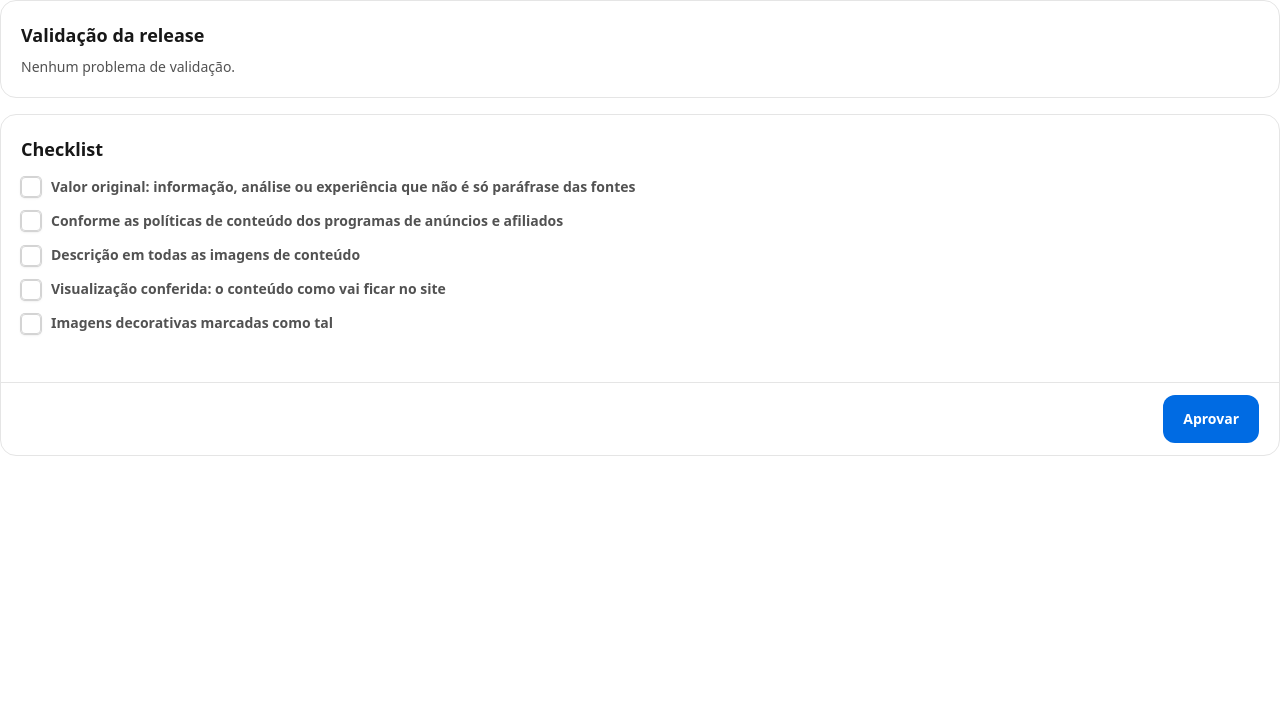
painel de revisão › recusa do domínio aparece no resumo do formulário
The width and height of the screenshot is (1280, 720).
Click the checkbox named "Valor original: informação, análise ou experiência que não é só paráfrase das fontes" at (31, 187), box [21, 177, 41, 197]
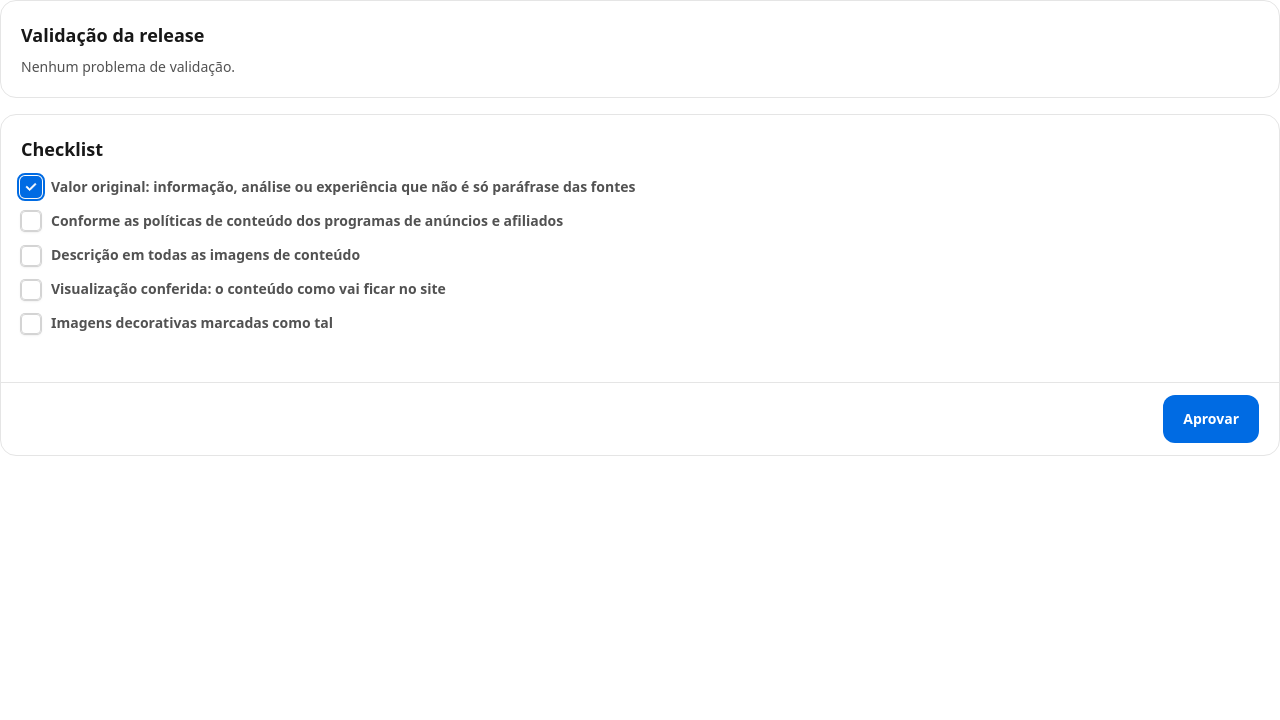
Click the checkbox labelled "Conforme as políticas de conteúdo dos programas de anúncios e afiliados" at (31, 221), box [21, 211, 41, 231]
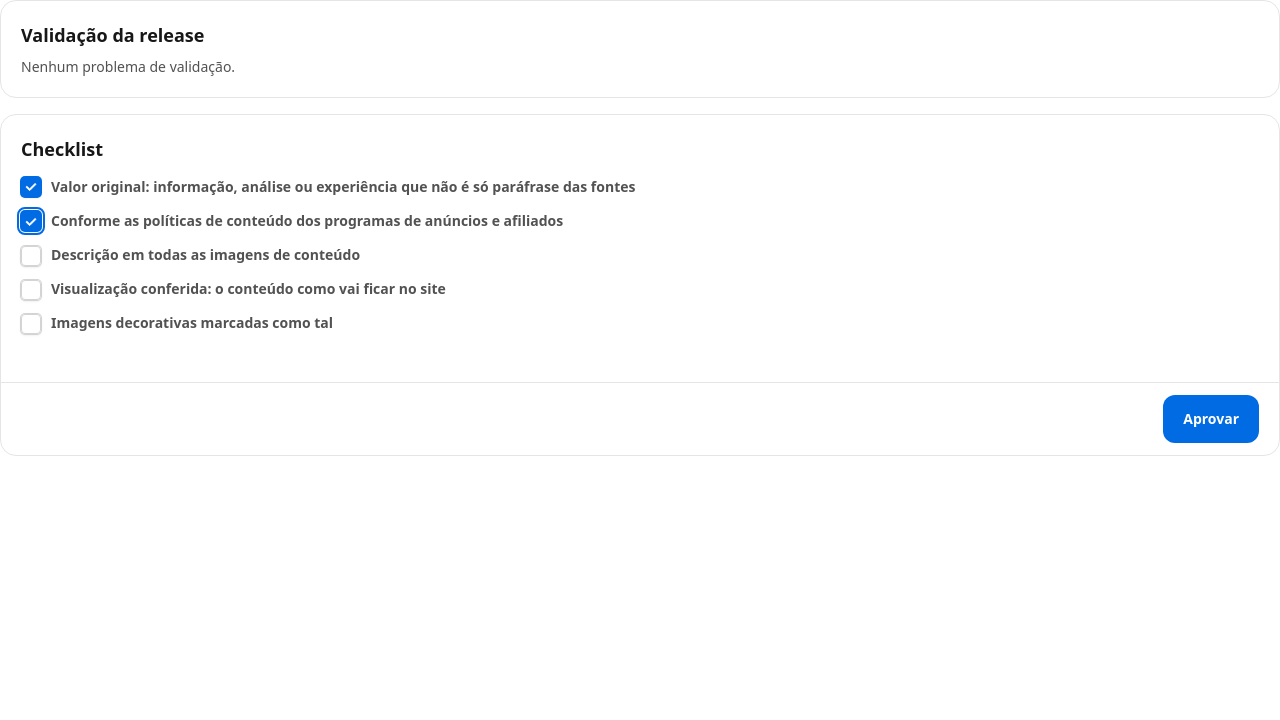
Click the checkbox labelled "Descrição em todas as imagens de conteúdo" at (31, 256), box [21, 246, 41, 266]
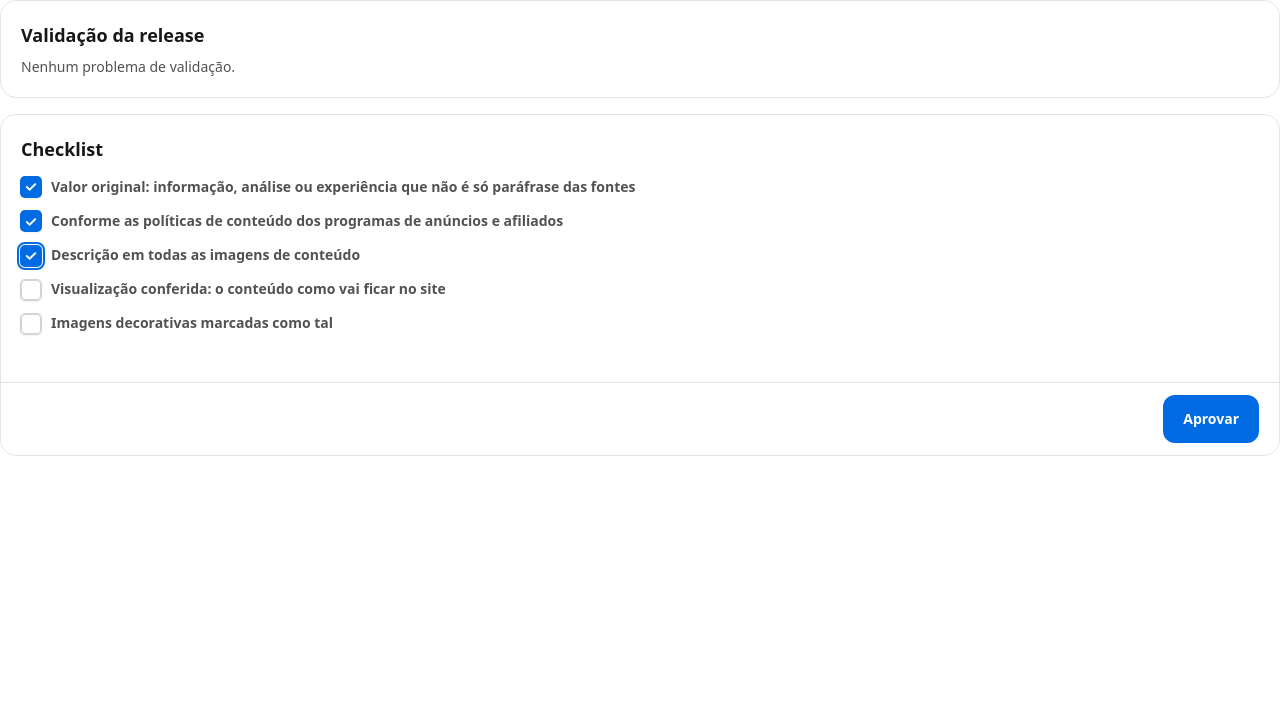
Click the checkbox labelled "Visualização conferida: o conteúdo como vai ficar no site" at (31, 290), box [21, 280, 41, 300]
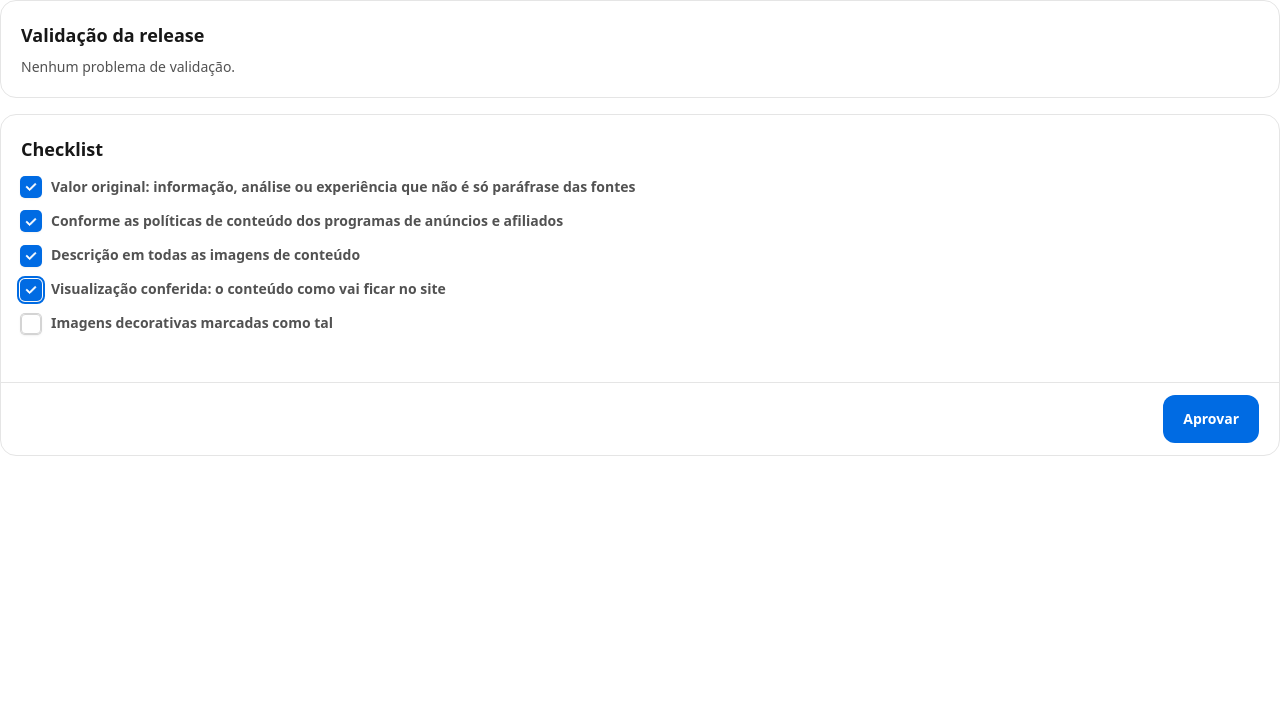
Click the checkbox labelled "Imagens decorativas marcadas como tal" at (31, 324), box [21, 314, 41, 334]
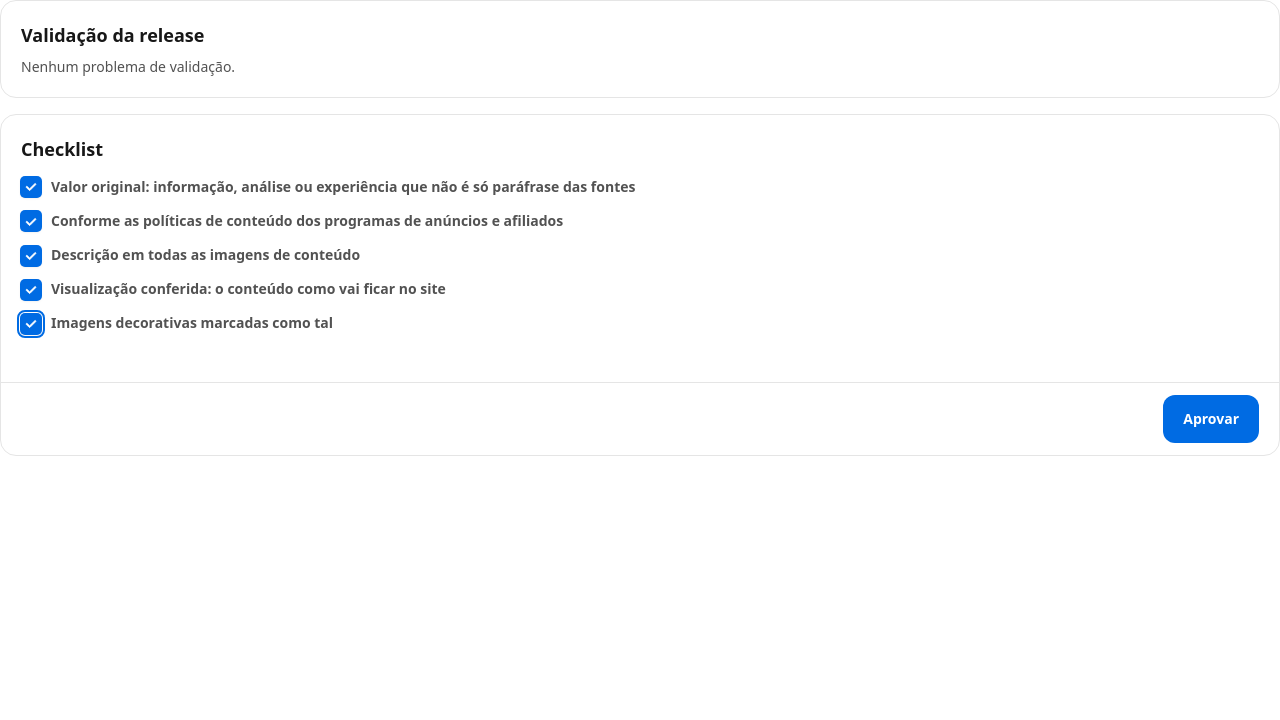
Click the button "Aprovar" at (1211, 419), box [1163, 395, 1259, 443]
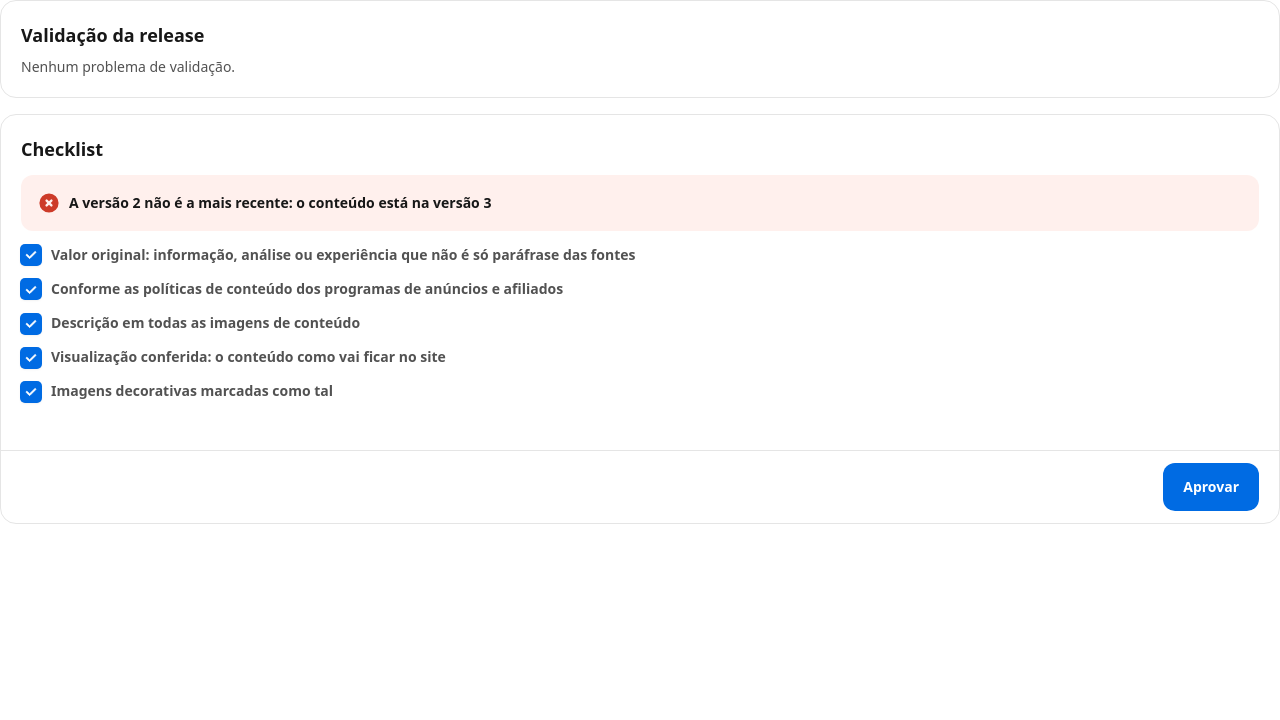
Now the message shows "não é a mais recente", box [69, 193, 491, 212]
